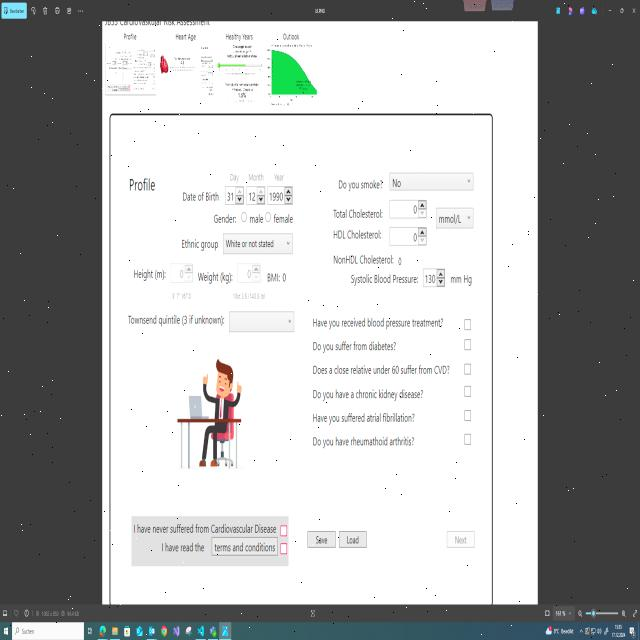button: (210, 536, 278, 559), (338, 526, 370, 554), (444, 530, 476, 554), (305, 530, 337, 548)
checkbox: (461, 428, 474, 450), (460, 407, 474, 427), (463, 358, 475, 379), (462, 382, 474, 400), (462, 316, 474, 332), (280, 541, 291, 558), (462, 336, 473, 351), (280, 522, 290, 538)
dropdownMenu: (227, 307, 297, 338), (388, 169, 476, 193), (222, 232, 294, 258), (434, 202, 475, 234)
input: (12, 621, 84, 640)
label: (129, 518, 277, 535), (312, 314, 447, 332), (310, 363, 450, 380), (309, 432, 422, 452), (310, 385, 431, 403), (309, 405, 422, 424), (124, 310, 225, 331), (309, 336, 399, 356), (344, 268, 419, 290), (326, 250, 404, 268), (150, 540, 207, 564), (326, 224, 385, 246), (333, 173, 385, 196), (330, 203, 385, 224), (124, 168, 158, 198), (180, 232, 220, 256), (196, 263, 234, 287), (179, 186, 220, 207), (127, 264, 167, 284), (230, 290, 268, 306), (265, 270, 298, 288), (211, 212, 238, 230), (166, 290, 194, 306), (448, 270, 474, 287), (273, 209, 296, 228), (223, 32, 259, 42), (280, 28, 304, 40), (122, 28, 141, 40), (249, 170, 265, 184), (172, 33, 200, 41), (249, 212, 264, 225), (226, 170, 240, 183), (272, 172, 286, 182)
radio: (239, 210, 247, 226), (265, 210, 272, 225)
upDown: (389, 222, 429, 248), (388, 197, 428, 221), (169, 259, 195, 288), (267, 183, 296, 207), (236, 262, 260, 285), (422, 264, 445, 288), (245, 185, 266, 205), (223, 185, 244, 204)
